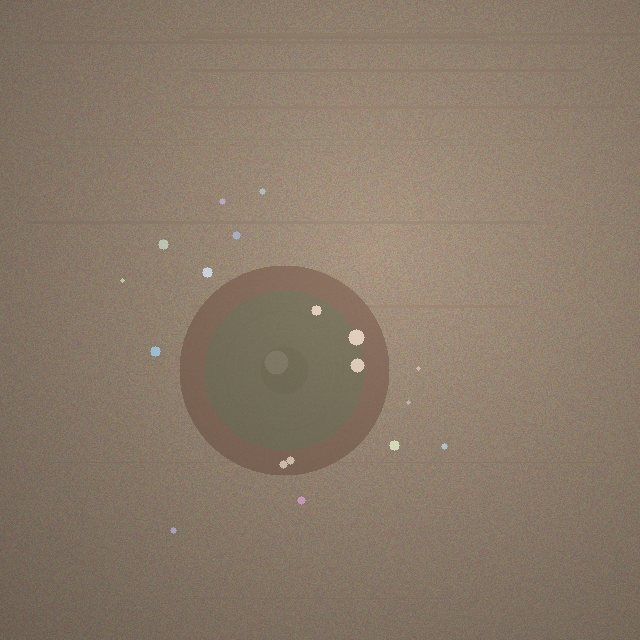overburn: (179, 265, 389, 475)
